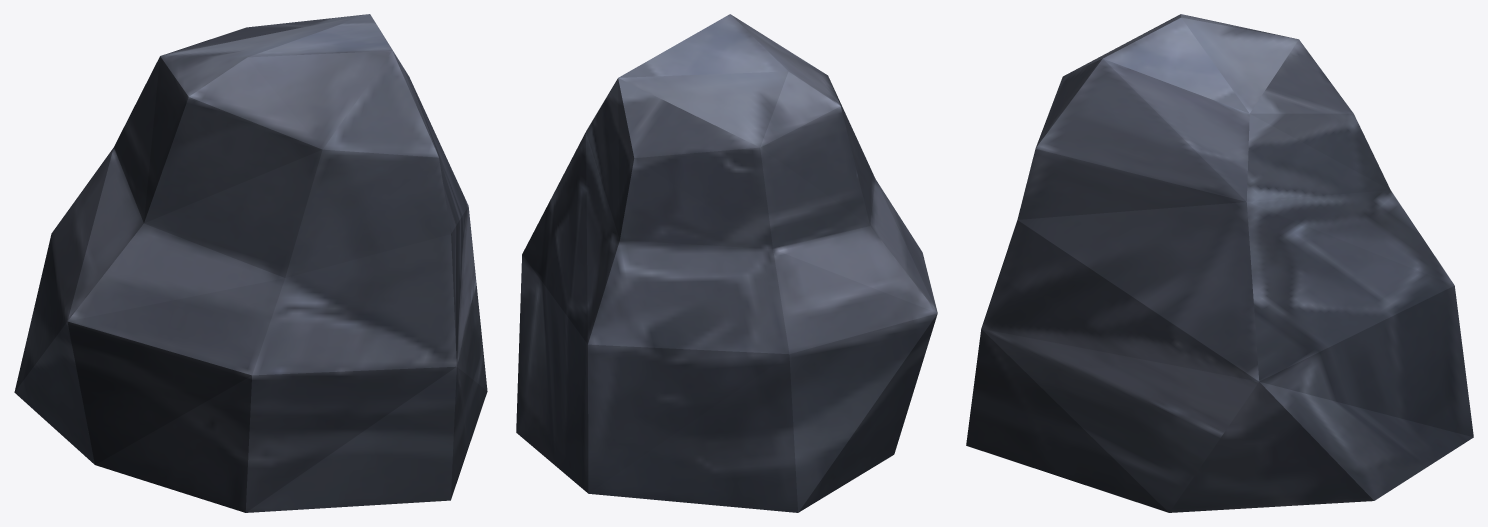
File: OutdoorM_Boulder_b.FBX
3 views of the same model, side by side, from view 1: azimuth 30°, elevation 25°; view 2: azimuth 150°, elevation 25°; view 3: azimuth 270°, elevation 25° (orthographic). The views are drawn at different scales.
Parts seen in each view (by area): view 1: OutdoorM_Boulder_b; view 2: OutdoorM_Boulder_b; view 3: OutdoorM_Boulder_b.
Boxes of the visible parts, <box> form: OutdoorM_Boulder_b: <box>14,14,487,512</box>; OutdoorM_Boulder_b: <box>516,14,937,512</box>; OutdoorM_Boulder_b: <box>966,14,1473,512</box>.
Bounding box in the file's own units: 19.86 × 17.31 × 20.31.
